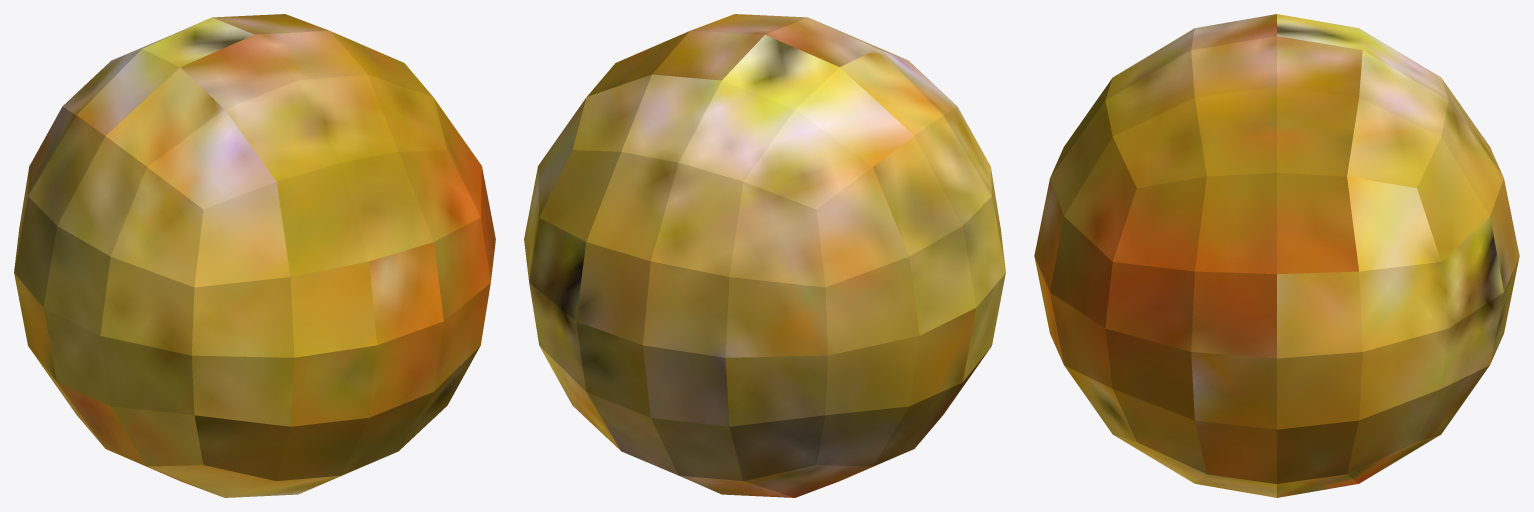
3 renders of one model, left to right at view 1: azimuth 30°, elevation 25°; view 2: azimuth 150°, elevation 25°; view 3: azimuth 270°, elevation 25°, orthographic.
Parts seen in each view (by area): view 1: Roundcube; view 2: Roundcube; view 3: Roundcube.
Part boxes in pixels (bbox=[...]): Roundcube: bbox=[14, 14, 495, 497]; Roundcube: bbox=[524, 14, 1005, 497]; Roundcube: bbox=[1034, 14, 1519, 497].
Size of the model in its own units: 1.2 by 1.2 by 1.2.
1 material, 1 textured.
